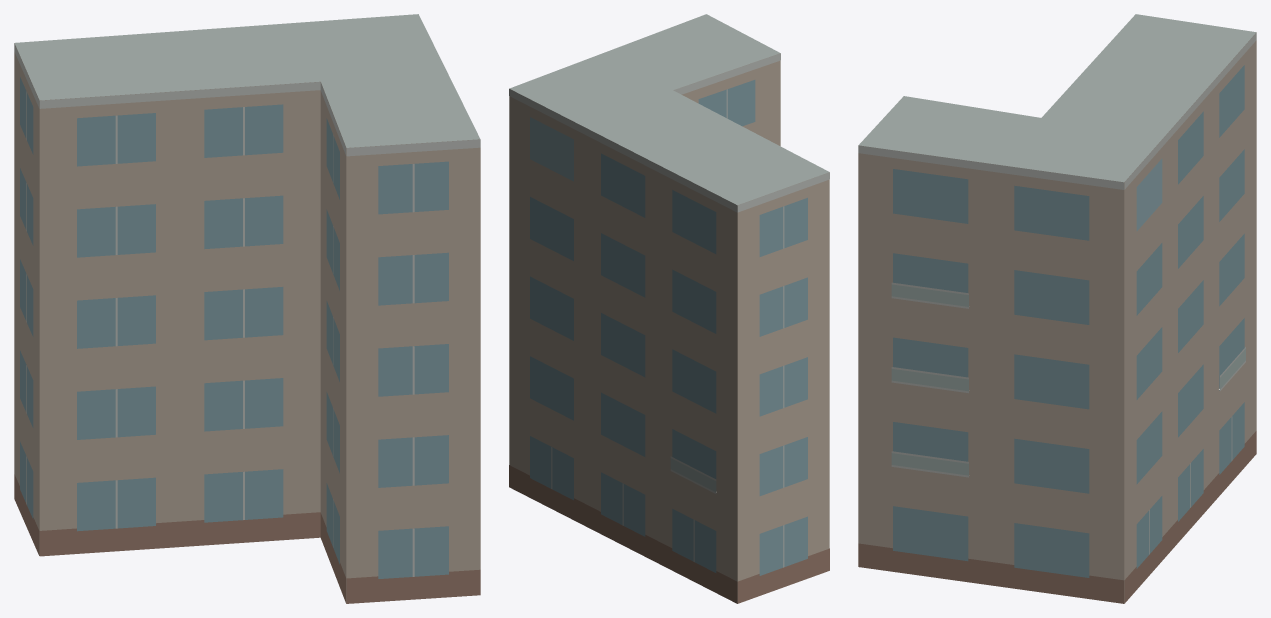
Rendered from survey-upis-32716810.glb.
The picture shows the model from 3 angles, left to right: view 1: azimuth 30°, elevation 25°; view 2: azimuth 150°, elevation 25°; view 3: azimuth 270°, elevation 25°; orthographic projection. The views are drawn at different scales.
Visible parts, largest first — view 1: survey-upis-32716810.tmp; view 2: survey-upis-32716810.tmp; view 3: survey-upis-32716810.tmp.
Part boxes in pixels (<box>): survey-upis-32716810.tmp: <box>14,14,480,603</box>; survey-upis-32716810.tmp: <box>509,14,829,603</box>; survey-upis-32716810.tmp: <box>858,14,1256,603</box>.
Size of the model in its own units: 11.31 by 13.2 by 11.31.
